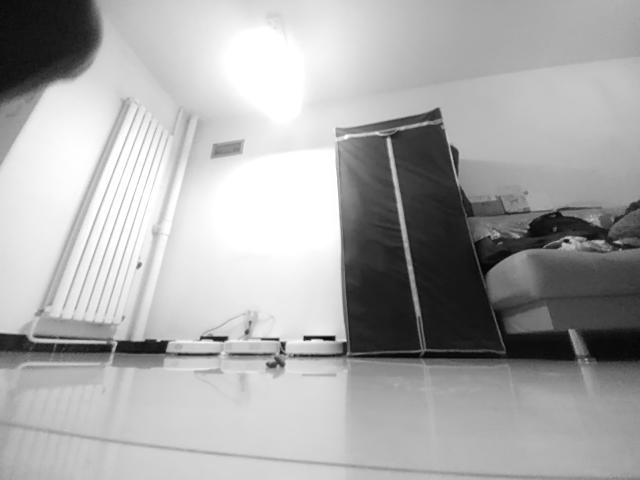pet feces: (265, 354, 287, 370)
